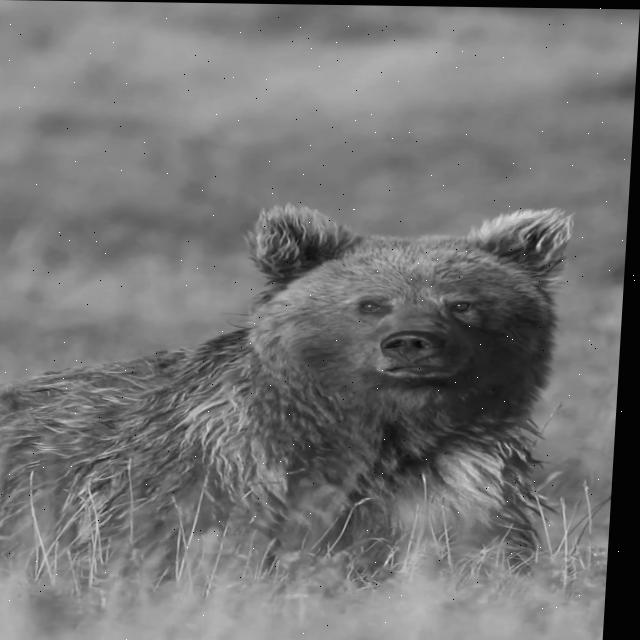Bear: (0, 197, 576, 603)
